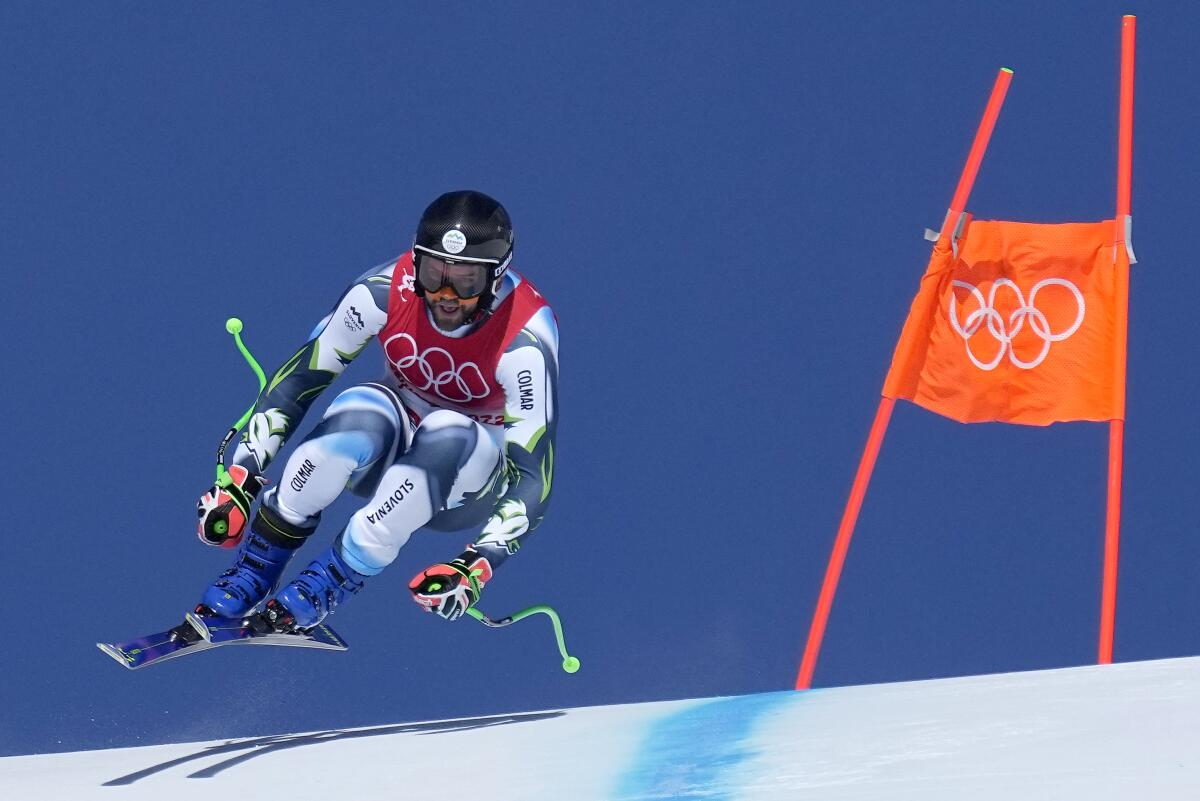skier: (58, 179, 636, 699)
